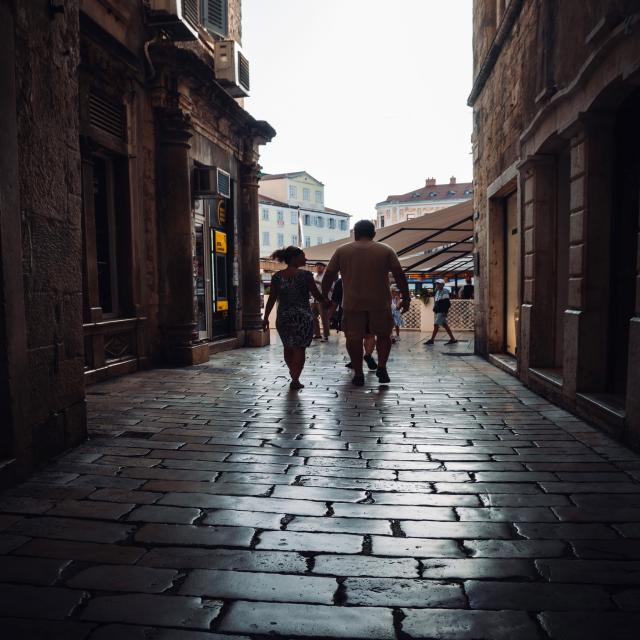adult: (322, 220, 410, 384), (262, 246, 330, 388), (423, 278, 458, 346), (310, 262, 328, 342), (389, 286, 401, 341)
